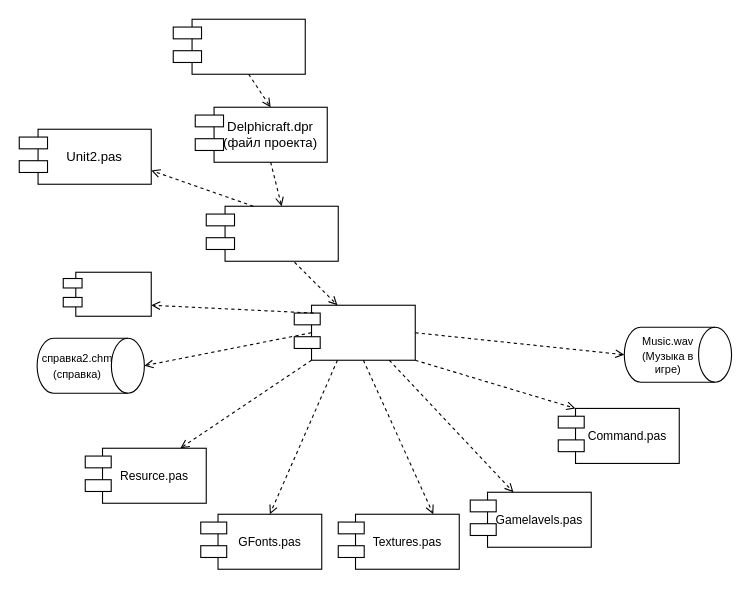
Some shapes in this 751 by 589 pixel diagram are drawn without their labels. Here are the shapes that lost their labels. From the top down, the centre of each, then its label:
At point (248, 46): "Delphicraft.exe (Исполняемый файл)".
At point (281, 233): "Unit2.dfm (Форма главного меню)".
At point (113, 293): "GUI.pas".
At point (362, 332): "GUI.dfm (главная игровая форма)".
